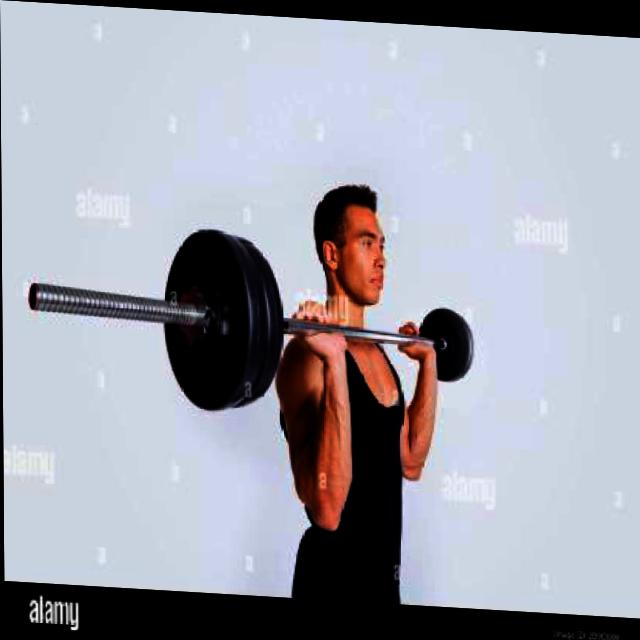barbell: (22, 206, 255, 415)
